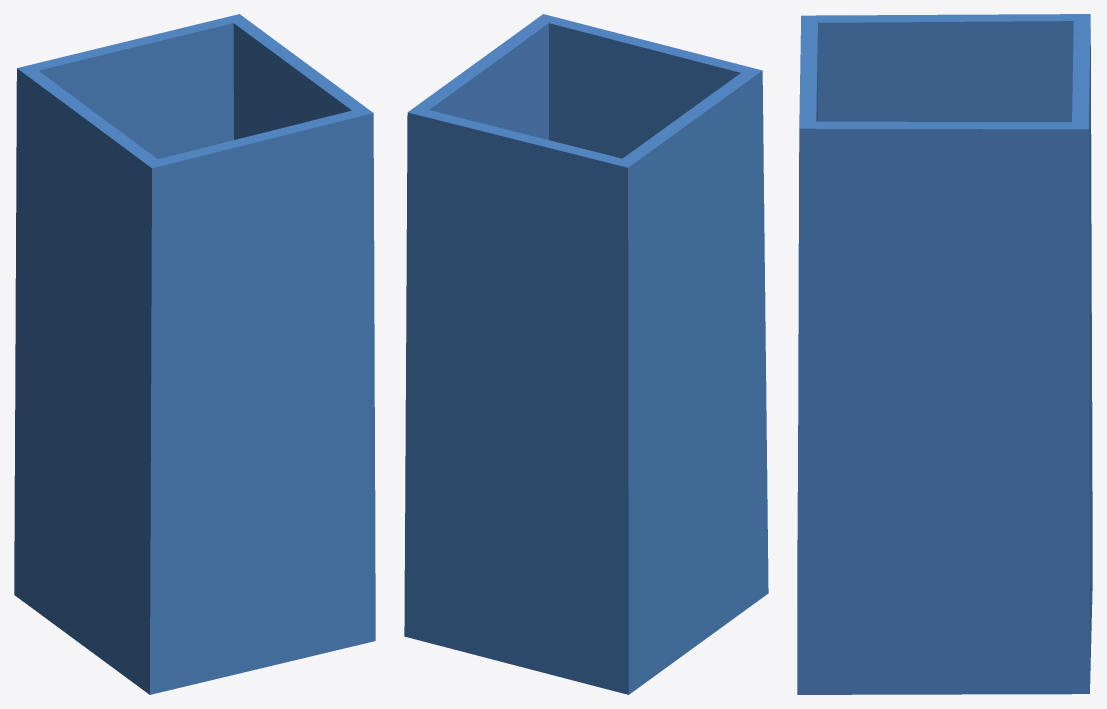
The model's file is Kitchen_2_Vase.fbx.
The picture shows the model from 3 angles, left to right: view 1: azimuth 30°, elevation 25°; view 2: azimuth 150°, elevation 25°; view 3: azimuth 270°, elevation 25°; orthographic projection. The views are drawn at different scales.
Parts seen in each view (by area): view 1: Kitchen_2_Vase; view 2: Kitchen_2_Vase; view 3: Kitchen_2_Vase.
Boxes of the visible parts, <box> form: Kitchen_2_Vase: <box>14,14,375,694</box>; Kitchen_2_Vase: <box>404,14,768,694</box>; Kitchen_2_Vase: <box>797,14,1092,694</box>.
Bounding box in the file's own units: 16.56 × 36.58 × 17.32.
